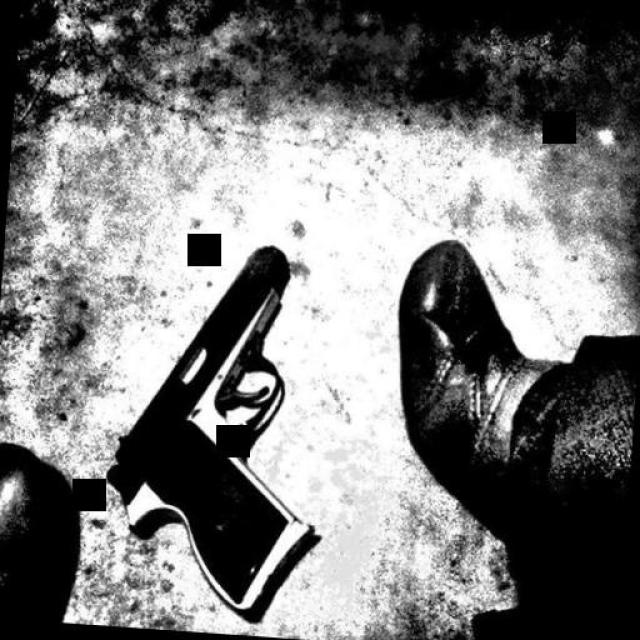gun: (89, 216, 341, 626)
